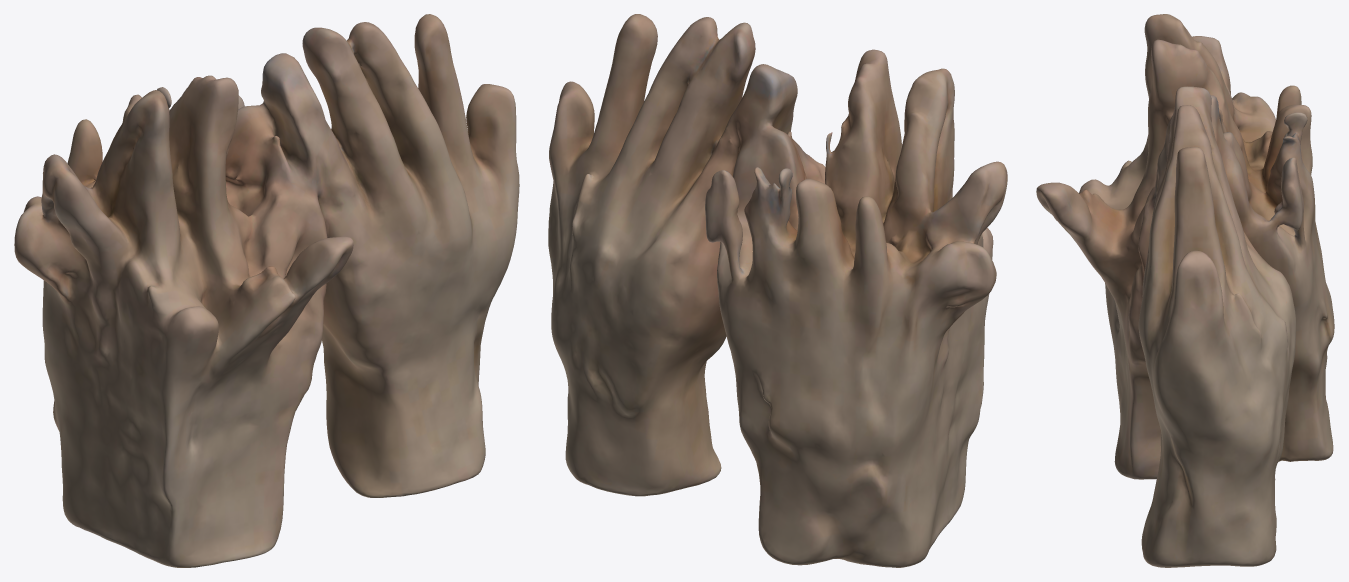
Rendered from 25d8a82e47f8_hands_sculpture__3d.fbx.
The picture shows the model from 3 angles, left to right: view 1: azimuth 30°, elevation 25°; view 2: azimuth 150°, elevation 25°; view 3: azimuth 270°, elevation 25°; orthographic projection. The views are drawn at different scales.
Visible parts, largest first — view 1: high_poly; view 2: high_poly; view 3: high_poly.
Boxes of the visible parts, x1,y1,x2,y2 form: high_poly: (14,14,519,567); high_poly: (548,14,1007,567); high_poly: (1036,14,1334,567).
Size of the model in its own units: 100 by 95.43 by 60.1.
